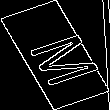M_NE: (12, 24, 98, 86)
